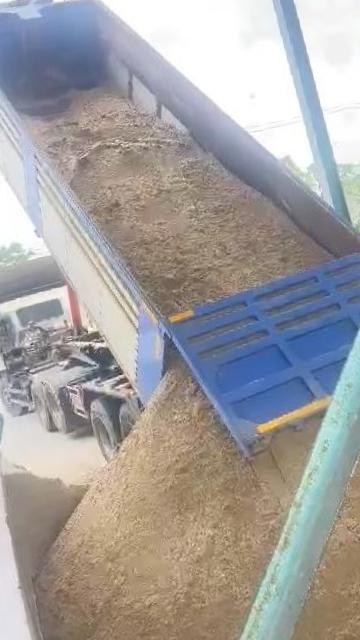sand: (6, 362, 316, 640), (27, 90, 331, 314), (283, 384, 360, 640)
